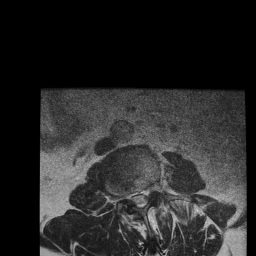CCS_stenosis: (136, 184, 142, 213)
LFS_normal: (148, 177, 155, 200)
LLS_normal: (142, 182, 148, 210)
RFS_normal: (123, 184, 130, 206)
RLS_normal: (130, 184, 137, 209)
